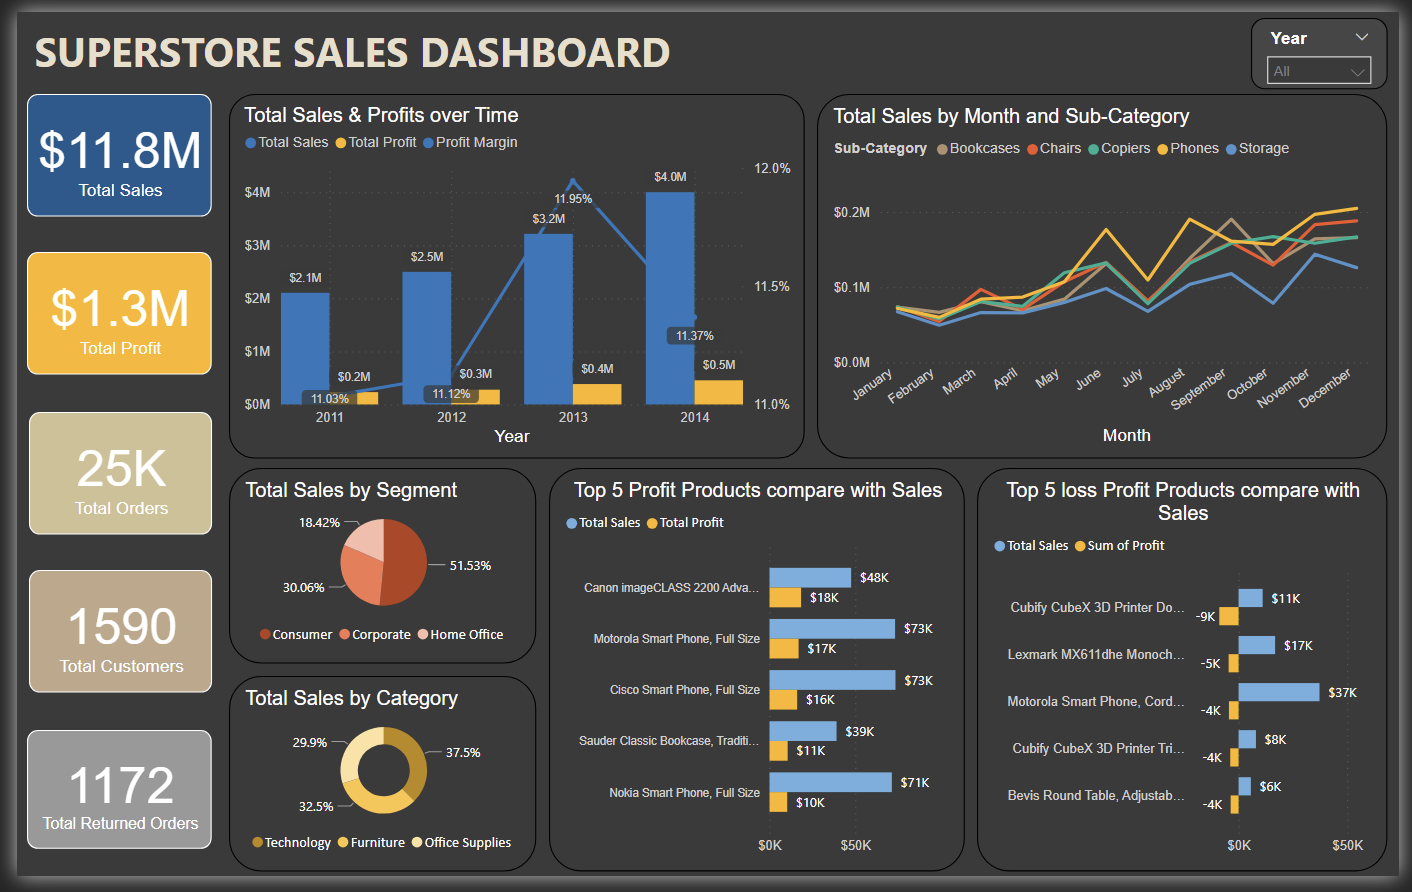

What the dashboard file says about the page in this screenshot:
{"tool":"powerbi","page":{"name":"Sales & Profit Overview","canvas":[1280,800],"ordinal":0},"visuals":[{"type":"textbox","box":[11.5,4.9,689.4,62.5],"z":0},{"type":"card","fields":{"Values":["_Measure.Total Sales"]},"box":[9.9,75.7,171.1,113.5],"z":1000},{"type":"card","fields":{"Values":["_Measure.Total Profit"]},"box":[9.9,222.9,171.1,113.5],"z":2000},{"type":"lineClusteredColumnComboChart","title":"Total Sales & Profits over Time","fields":{"Category":["DimDate.Date.Variation.Date Hierarchy.Year","DimDate.Date.Variation.Date Hierarchy.Quarter","DimDate.Date.Variation.Date Hierarchy.Month","DimDate.Date.Variation.Date Hierarchy.Day"],"Y":["_Measure.Total Sales","_Measure.Total Profit"],"Y2":["_Measure.Profit Margin"]},"box":[195.8,75.7,533.1,337.3],"z":3000},{"type":"card","fields":{"Values":["_Measure.Total Orders"]},"box":[10.7,370.2,169.5,113.5],"z":4000},{"type":"card","fields":{"Values":["_Measure.Total Customers"]},"box":[10.7,517.4,169.5,113.5],"z":5000},{"type":"slicer","fields":{"Values":["DimDate.Year"]},"box":[1141.8,4.9,126.7,65.8],"z":6000},{"type":"donutChart","fields":{"Y":["_Measure.Total Sales"],"Category":["Orders.Category Hierarchy.Category"]},"box":[195.8,615.3,284.6,181],"z":8000},{"type":"clusteredBarChart","title":"Top 5 Profit Products compare with Sales","fields":{"Category":["Orders.Product Name","Orders.Category Hierarchy.Category","Orders.Category Hierarchy.Sub-Category","Orders.Category Hierarchy.Product Name"],"Y":["_Measure.Total Sales","_Measure.Total Profit"]},"box":[491.9,422.8,385,373.5],"z":9000},{"type":"clusteredBarChart","title":"Top 5 loss Profit Products compare with Sales ","fields":{"Category":["Orders.Category Hierarchy.Category","Orders.Category Hierarchy.Sub-Category","Orders.Category Hierarchy.Product Name"],"Y":["_Measure.Total Sales","Sum(Orders.Profit)"]},"box":[888.4,422.8,380.1,373.5],"z":10000},{"type":"pieChart","fields":{"Category":["Orders.Segment"],"Y":["_Measure.Total Sales"]},"box":[195.8,422.8,284.6,181],"z":11000},{"type":"card","fields":{"Values":["_Measure.Total Returned Orders"]},"box":[9.9,664.7,171.1,110.2],"z":12000},{"type":"lineChart","fields":{"Category":["DimDate.Date.Variation.Date Hierarchy.Year","DimDate.Date.Variation.Date Hierarchy.Month"],"Y":["_Measure.Total Sales"],"Series":["Orders.Sub-Category"]},"box":[740.4,75.7,528.1,337.3],"z":12001}]}

Visuals, with their boxes in screenshot pixels (x1, y1, x2, y2), scaled from the page's 1280x800 canvas onto the 1412x892 screenshot:
textbox: <region>13, 5, 773, 75</region>
card - _Measure.Total Sales: <region>11, 84, 200, 211</region>
card - _Measure.Total Profit: <region>11, 249, 200, 375</region>
"Total Sales & Profits over Time" lineClusteredColumnComboChart: <region>216, 84, 804, 460</region>
card - _Measure.Total Orders: <region>12, 413, 199, 539</region>
card - _Measure.Total Customers: <region>12, 577, 199, 703</region>
slicer - DimDate.Year: <region>1260, 5, 1399, 79</region>
donutChart - _Measure.Total Sales x Orders.Category Hierarchy.Category: <region>216, 686, 530, 888</region>
"Top 5 Profit Products compare with Sales" clusteredBarChart: <region>543, 471, 967, 888</region>
"Top 5 loss Profit Products compare with Sales " clusteredBarChart: <region>980, 471, 1399, 888</region>
pieChart - Orders.Segment x _Measure.Total Sales: <region>216, 471, 530, 673</region>
card - _Measure.Total Returned Orders: <region>11, 741, 200, 864</region>
lineChart - DimDate.Date.Variation.Date Hierarchy.Year x DimDate.Date.Variation.Date Hierarchy.Month: <region>817, 84, 1399, 460</region>
